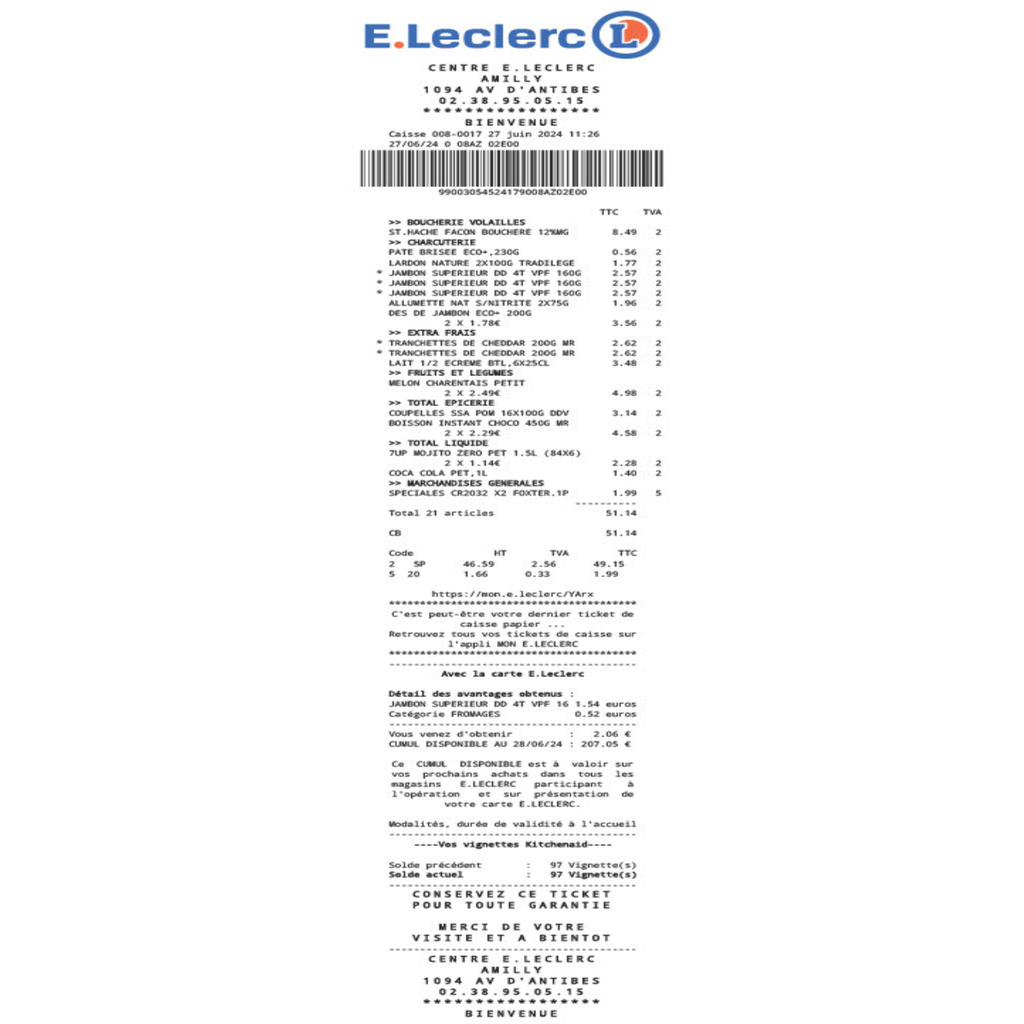recipt: (336, 4, 699, 1024)
